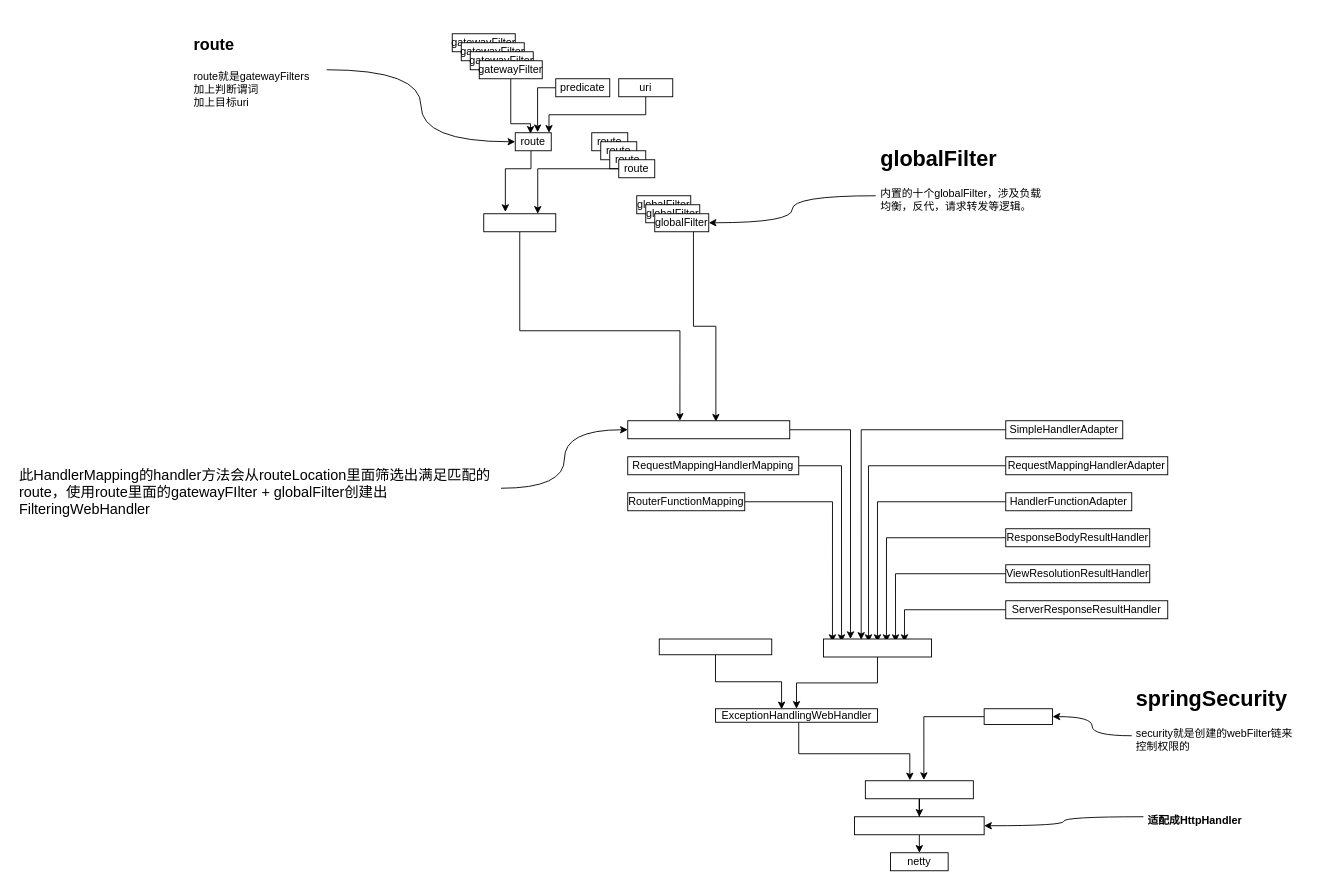
The diagram is 1319 pixels wide and 887 high, and some of its shapes have lost their labels. Each missing label, with the box of its shape:
dispatcherHandler: (823, 638, 932, 657)
FilterWebHandler: (864, 780, 973, 799)
HttpWebHandlerAdapter: (854, 816, 984, 835)
routeLocation: (483, 213, 556, 232)
RoutePredicateHandlerMapping: (627, 420, 790, 439)
WebExceptionHandler: (658, 638, 772, 655)
webFilter: (983, 708, 1053, 724)
